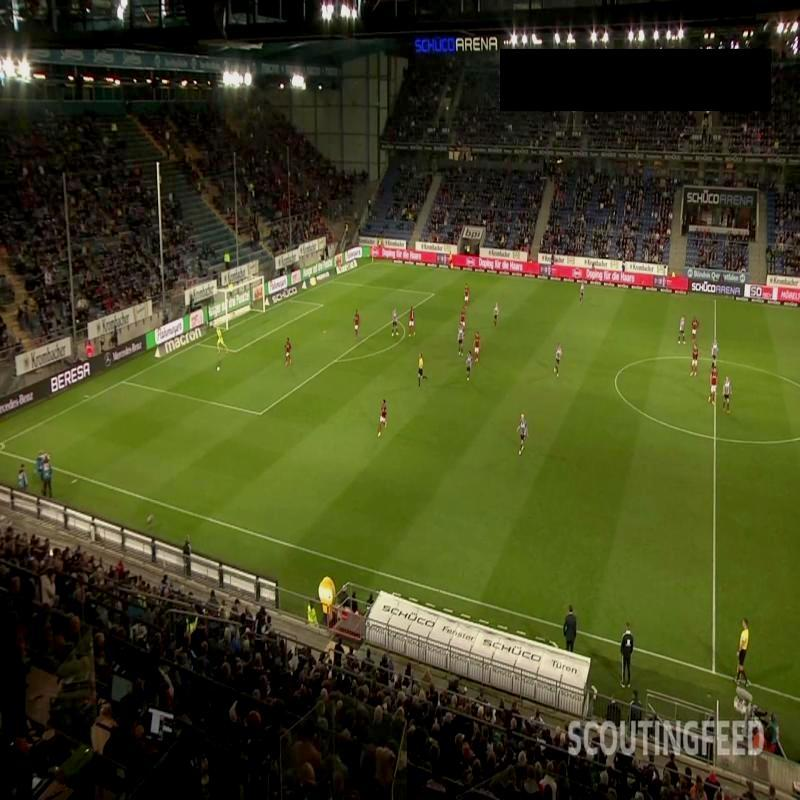1: (366, 256, 380, 270)
10: (388, 313, 402, 327)
11: (328, 354, 342, 368)
12: (254, 407, 268, 421)
13: (708, 292, 722, 306)
14: (708, 353, 722, 367)
15: (708, 429, 723, 445)
16: (706, 662, 722, 681)
2: (322, 275, 336, 289)
3: (281, 294, 295, 308)
4: (190, 336, 204, 350)
5: (116, 374, 130, 388)
7: (314, 299, 328, 312)
8: (228, 345, 242, 359)
9: (427, 288, 441, 302)
c: (609, 372, 623, 386)
